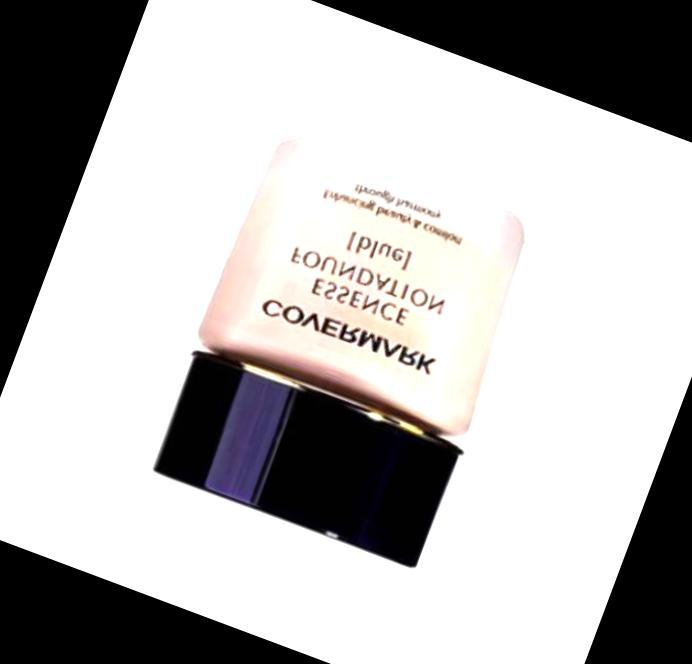cosmetic: (144, 119, 550, 571)
